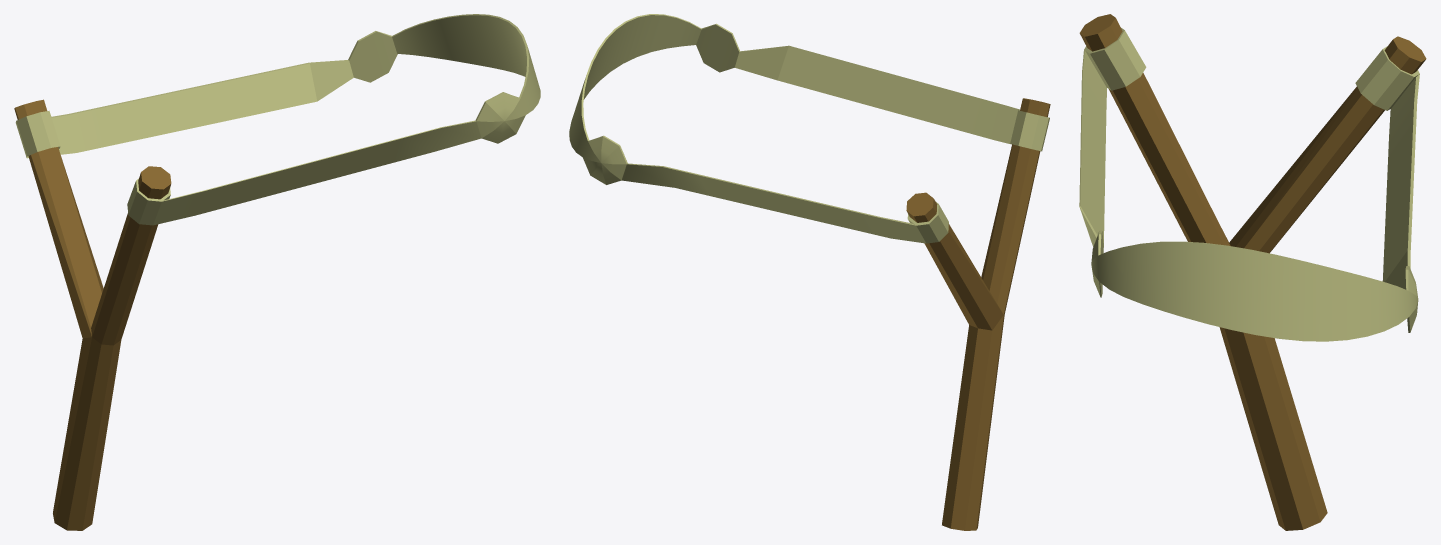
File: Resortera.fbx
The picture shows the model from 3 angles, left to right: view 1: azimuth 30°, elevation 25°; view 2: azimuth 150°, elevation 25°; view 3: azimuth 270°, elevation 25°; orthographic projection. The views are drawn at different scales.
Parts seen in each view (by area): view 1: polySurface6, pCylinder4; view 2: polySurface6, pCylinder4; view 3: polySurface6, pCylinder4.
Boxes of the visible parts, x1=… form: polySurface6: x1=15, y1=14, x2=540, y2=225; pCylinder4: x1=14, y1=99, x2=171, y2=530; polySurface6: x1=569, y1=14, x2=1049, y2=243; pCylinder4: x1=906, y1=98, x2=1050, y2=530; polySurface6: x1=1079, y1=28, x2=1419, y2=341; pCylinder4: x1=1079, y1=14, x2=1426, y2=530.
Bounding box in the file's own units: 11.89 × 10.98 × 6.58.
